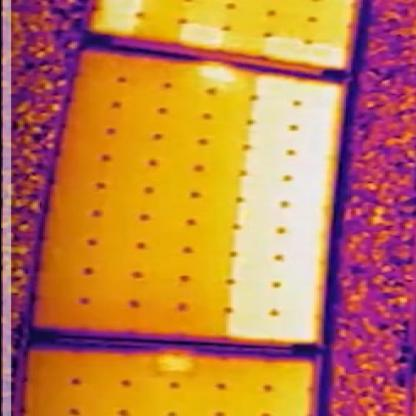Defects: (198, 68, 240, 80)
